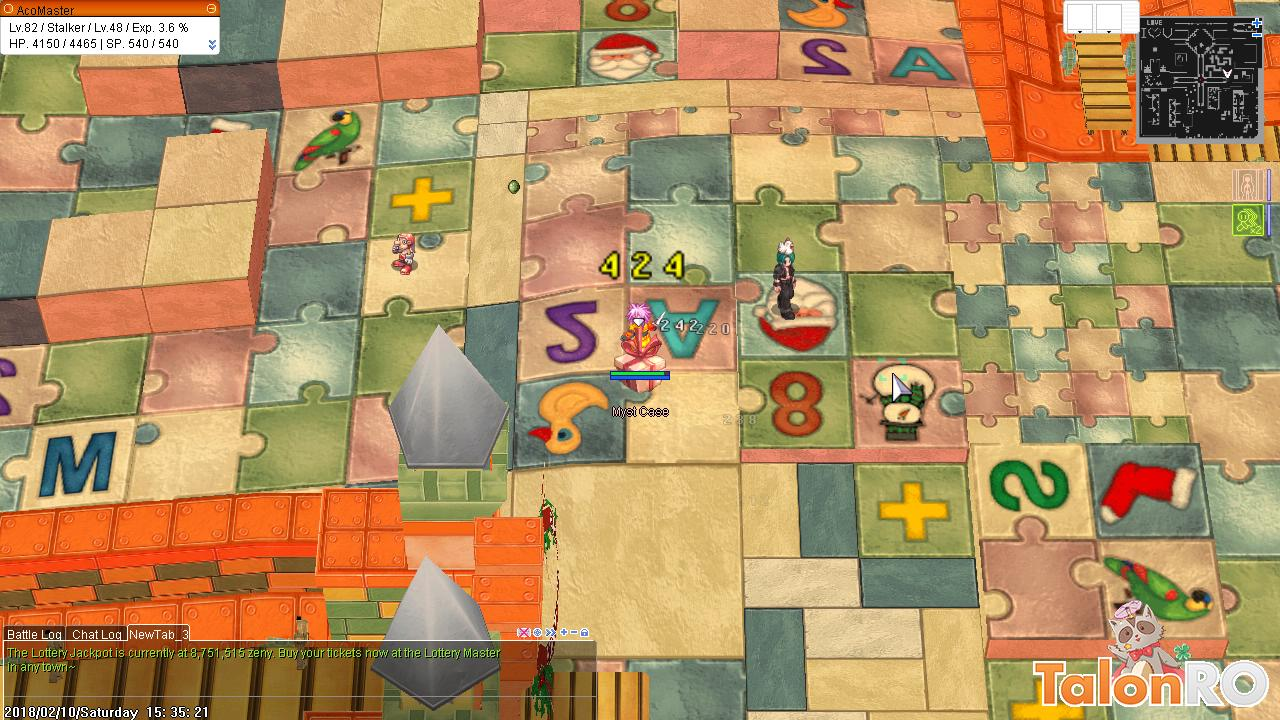loot: (502, 169, 524, 199)
myst_case: (613, 322, 667, 398)
